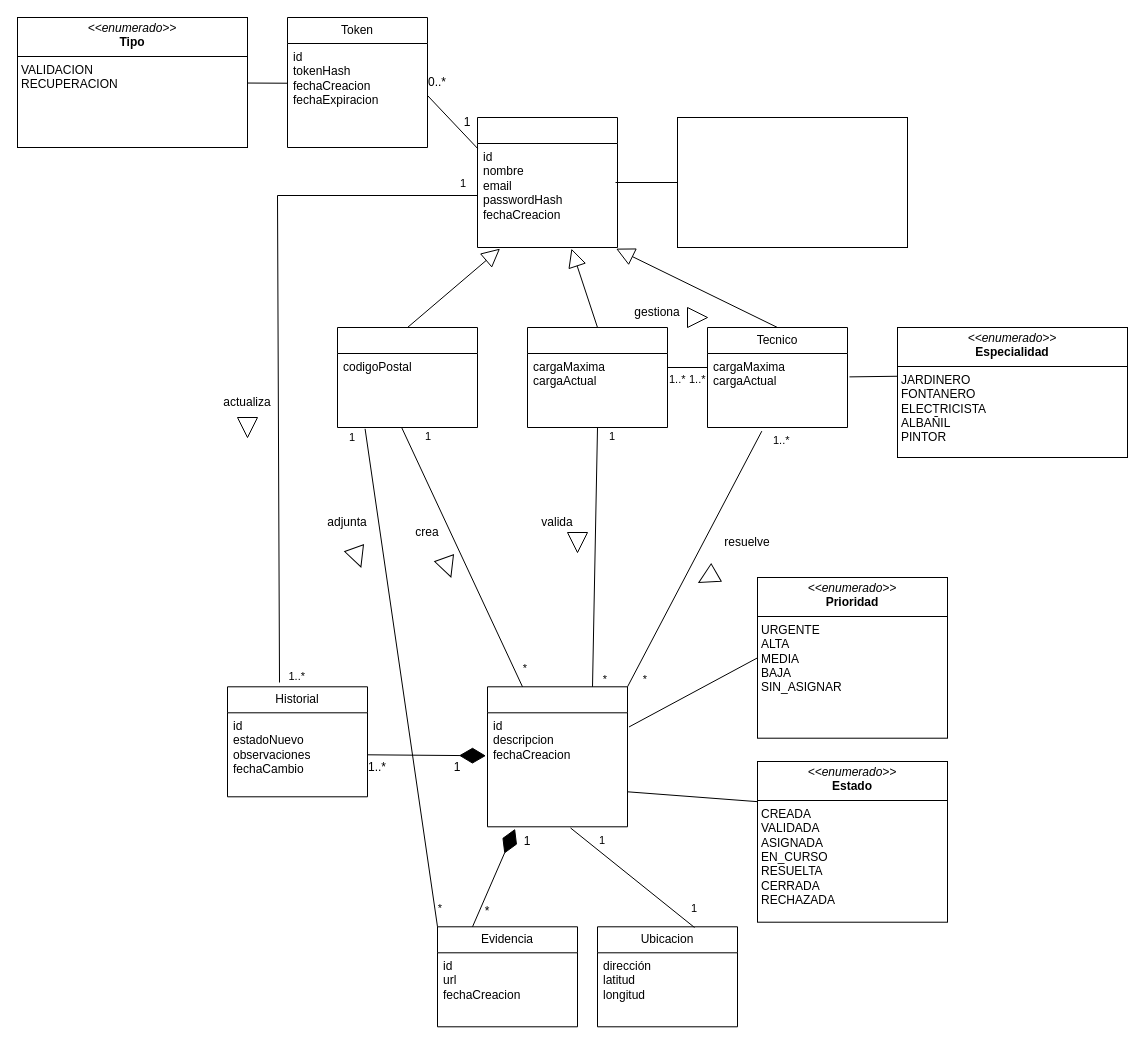
This 1145x1047 diagram has some shape labels left out. The box of each missing label's shape, as (x1, y1, x2, y2) in pixels:
<<enumerado>> Rol CIUDADANO OPERADOR TECNICO: (676, 116, 908, 248)
Ciudadano: (336, 326, 478, 428)
Incidencia: (486, 686, 628, 827)
Operador: (526, 326, 668, 428)
Usuario: (476, 116, 618, 248)
